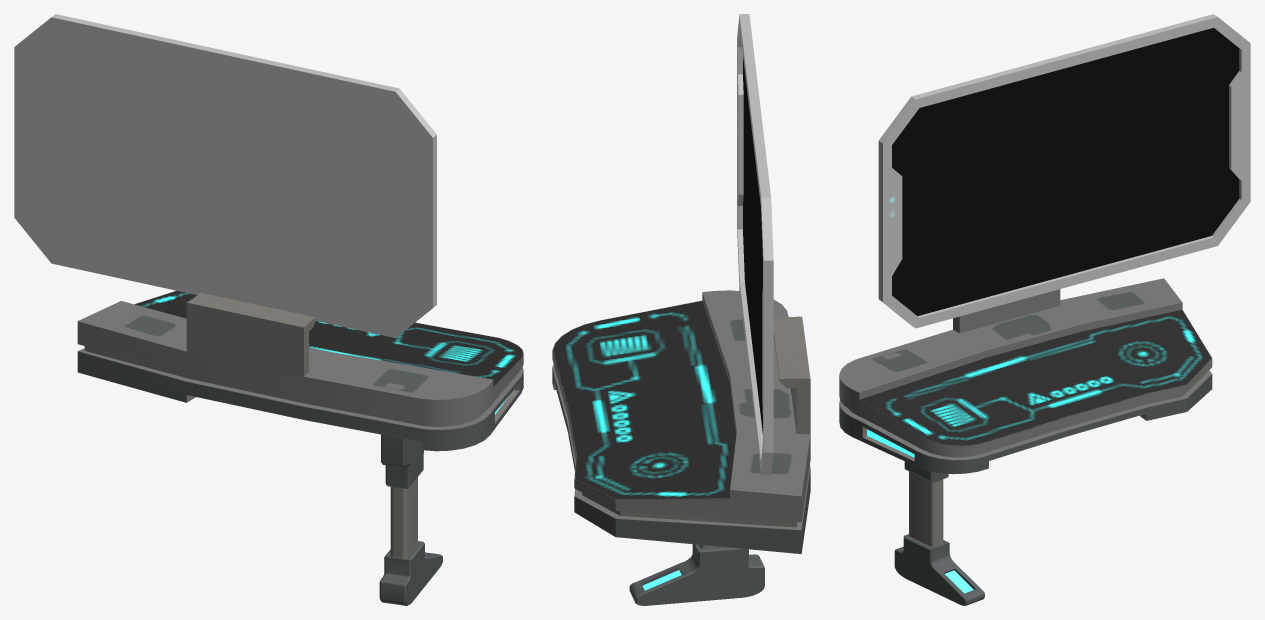
The model's file is panatllasx2 2.fbx.
The picture shows the model from 3 angles, left to right: view 1: azimuth 30°, elevation 25°; view 2: azimuth 150°, elevation 25°; view 3: azimuth 270°, elevation 25°; orthographic projection. The views are drawn at different scales.
Parts seen in each view (by area): view 1: Side_panel_low; view 2: Side_panel_low; view 3: Side_panel_low.
Part boxes in pixels (x1=…): Side_panel_low: x1=14, y1=14, x2=523, y2=605; Side_panel_low: x1=552, y1=14, x2=810, y2=605; Side_panel_low: x1=839, y1=14, x2=1250, y2=605.
Bounding box in the file's own units: 98.07 × 139 × 109.
